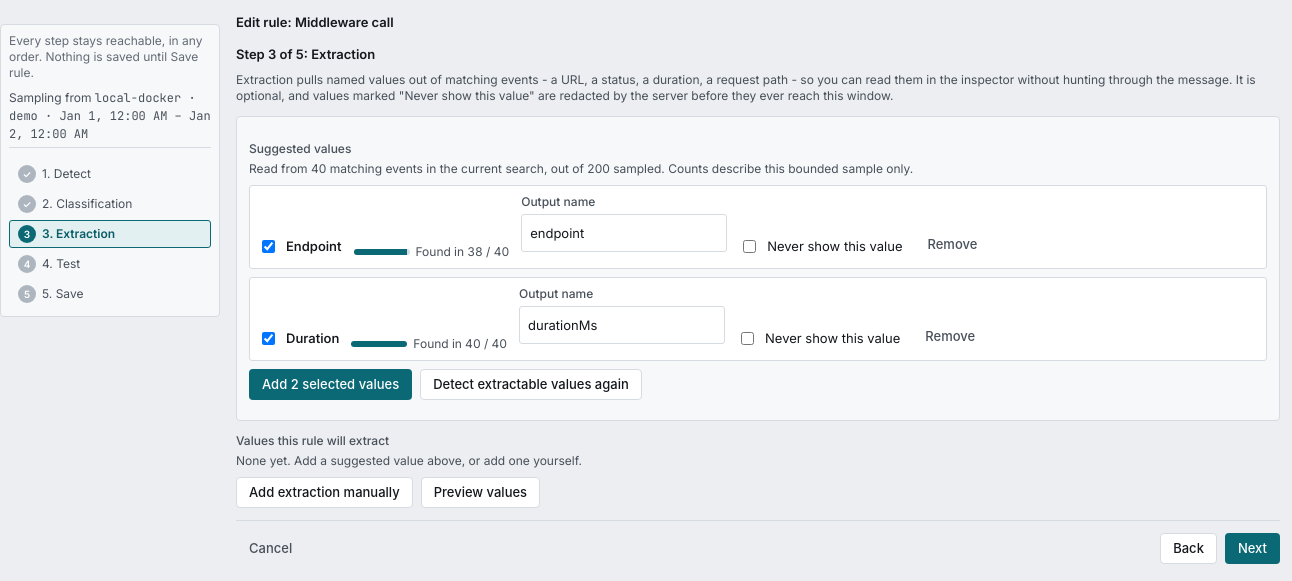
Test: RuleEditor - assisted extraction: the suggestion list › Add is disabled when nothing is ticked, so the button can never claim to add zero values
Click the checkbox labelled "Endpoint".
click(268, 246)  # box [262,240,275,252]
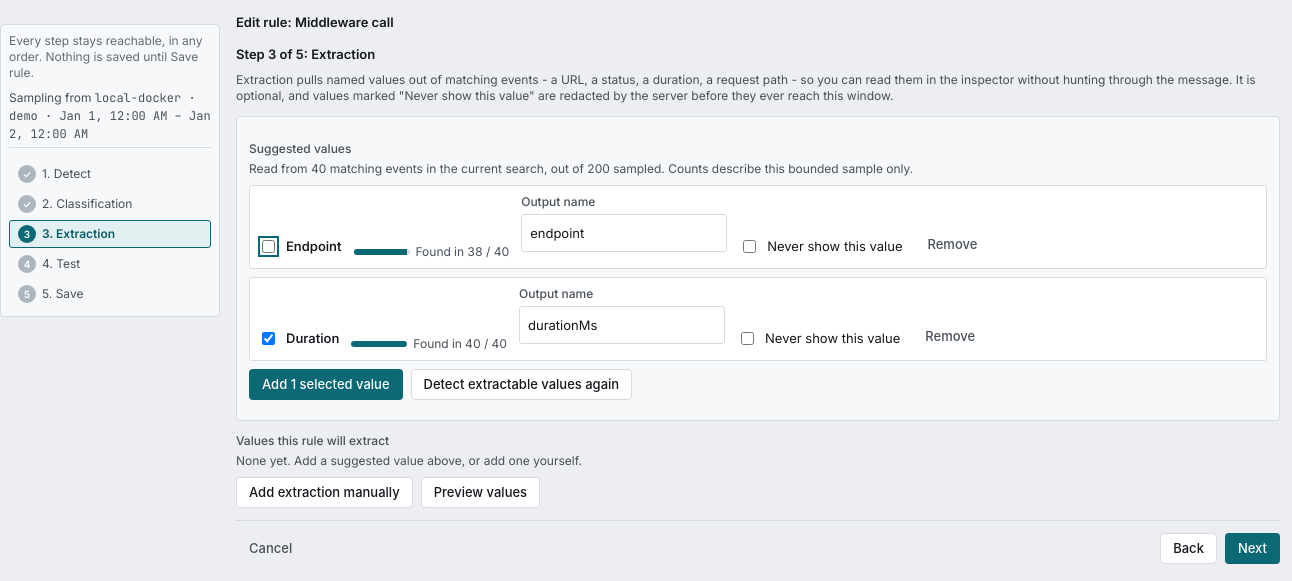
Click the checkbox labelled "Duration".
click(268, 338)  # box [262,332,275,344]
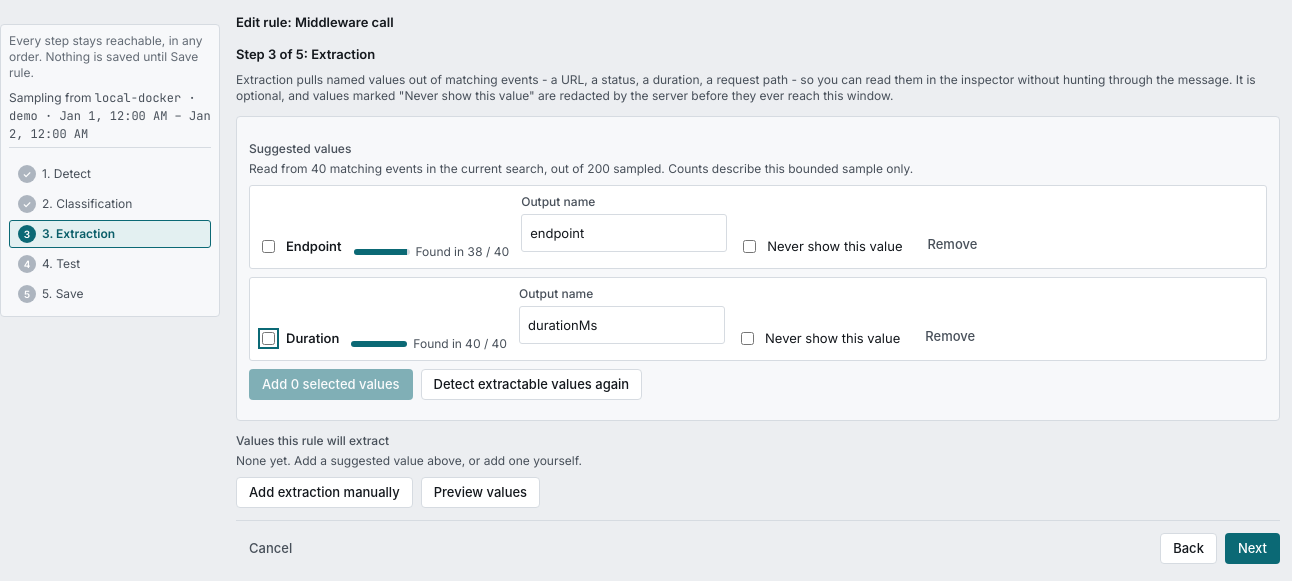
Now the button "Add 0 selected values" is disabled, box [249,369,412,400]
